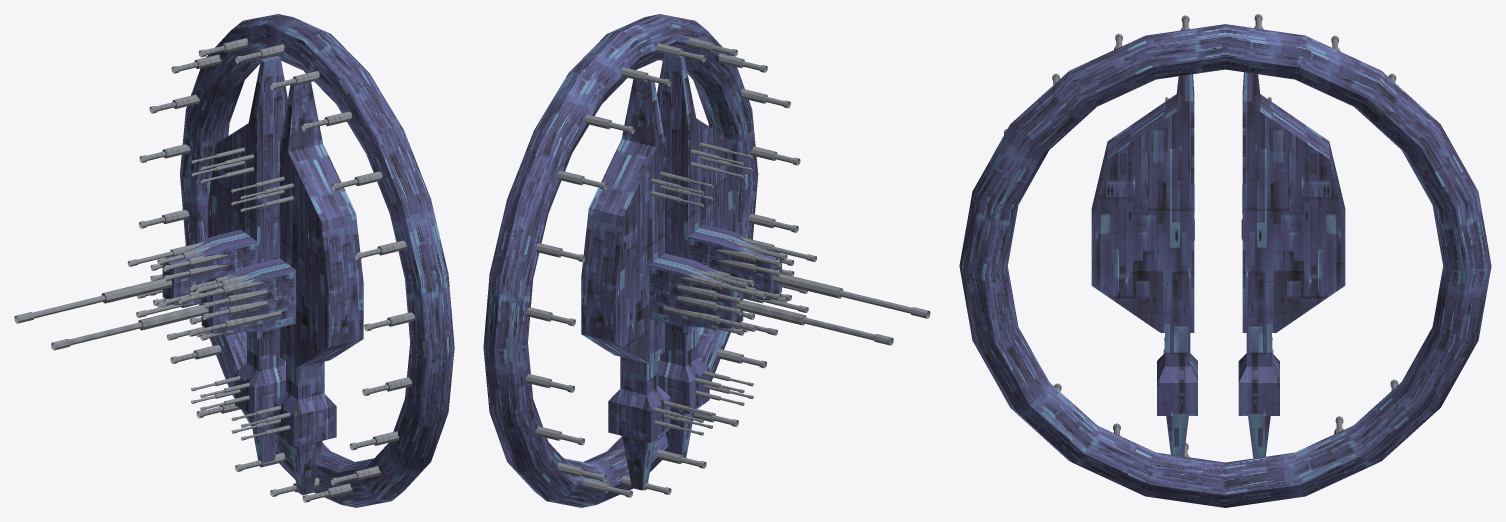
File: mother_ship.fbx
3 renders of one model, left to right at view 1: azimuth 30°, elevation 25°; view 2: azimuth 150°, elevation 25°; view 3: azimuth 270°, elevation 25°, orthographic. The views are drawn at different scales.
Parts seen in each view (by area): view 1: mother_ship1, mother_ship_2, mother_ship_3; view 2: mother_ship1, mother_ship_3, mother_ship_2; view 3: mother_ship1, mother_ship_3, mother_ship_2.
Part boxes in pixels (<box>): mother_ship1: <box>139,14,454,507</box>; mother_ship_2: <box>51,82,363,495</box>; mother_ship_3: <box>14,56,287,466</box>; mother_ship1: <box>483,14,800,507</box>; mother_ship_3: <box>581,79,893,490</box>; mother_ship_2: <box>657,53,930,457</box>; mother_ship1: <box>959,14,1491,507</box>; mother_ship_3: <box>1238,72,1345,458</box>; mother_ship_2: <box>1091,74,1197,456</box>.
Size of the model in its own units: 342 by 491 by 491.
Materials: 2 (2 with a texture image).
